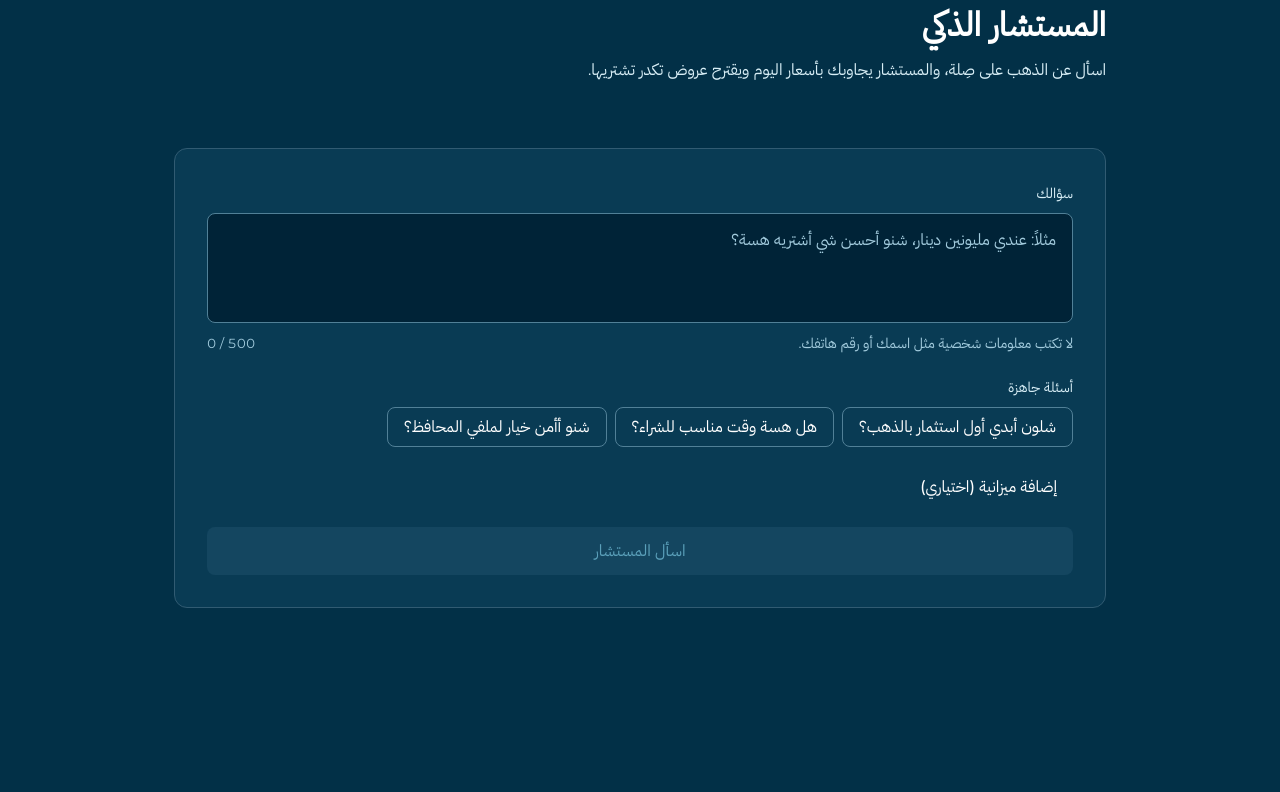
Scenario: AdvisorPage › labels a model-worded answer
The width and height of the screenshot is (1280, 792).
Type "هل هسة وقت مناسب؟" into the text box labelled "سؤالك". click: (640,268)
box: x1=207 y1=213 x2=1073 y2=323
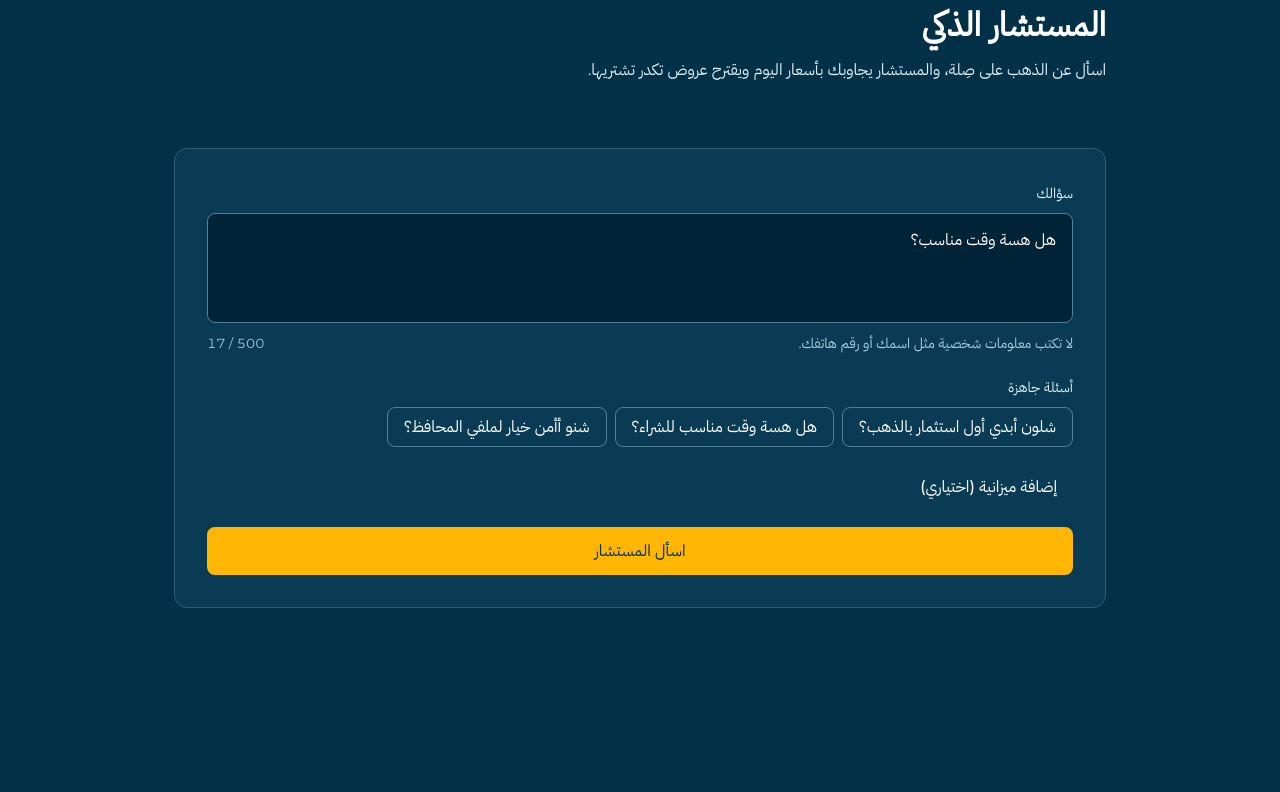
Click the button "اسأل المستشار". click: (640,551)
box: x1=207 y1=527 x2=1073 y2=575
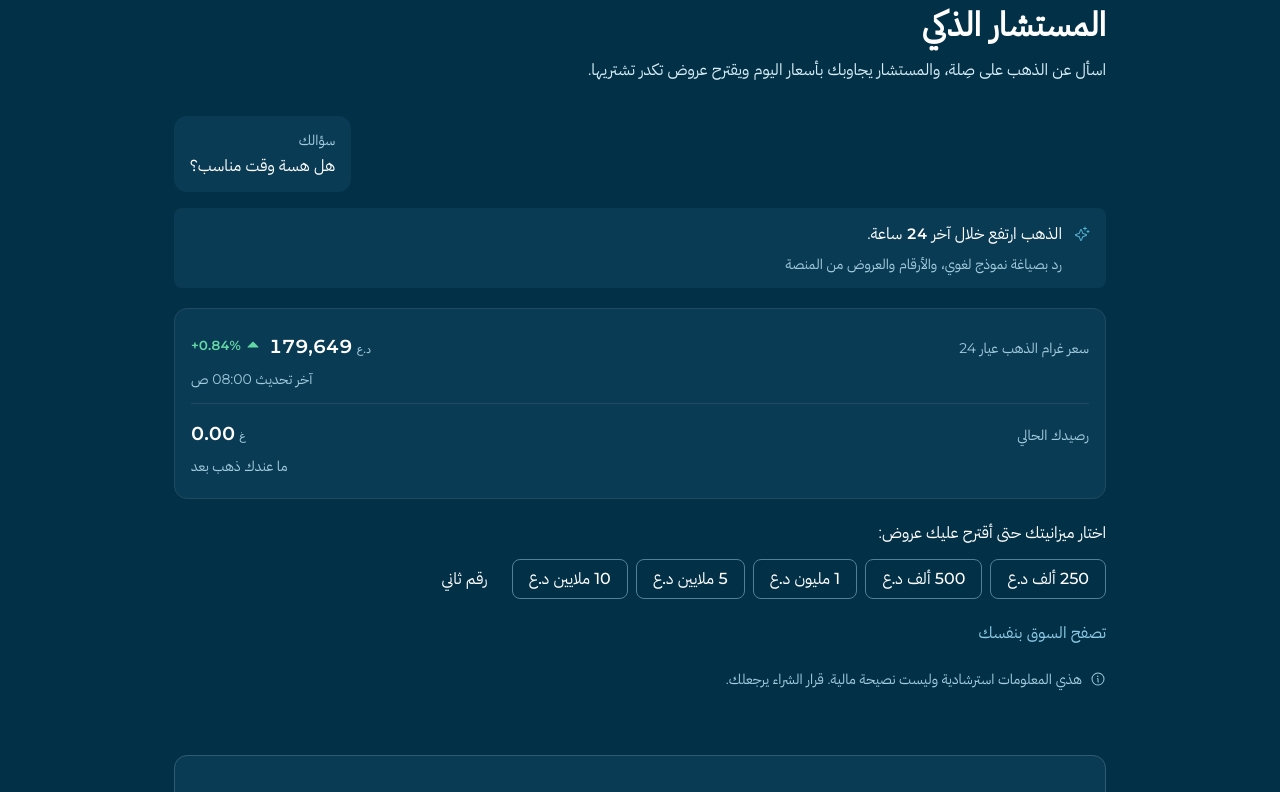
Now the text "رد بصياغة نموذج لغوي، والأرقام والعروض من المنصة" is shown, box x1=786 y1=255 x2=1062 y2=273
